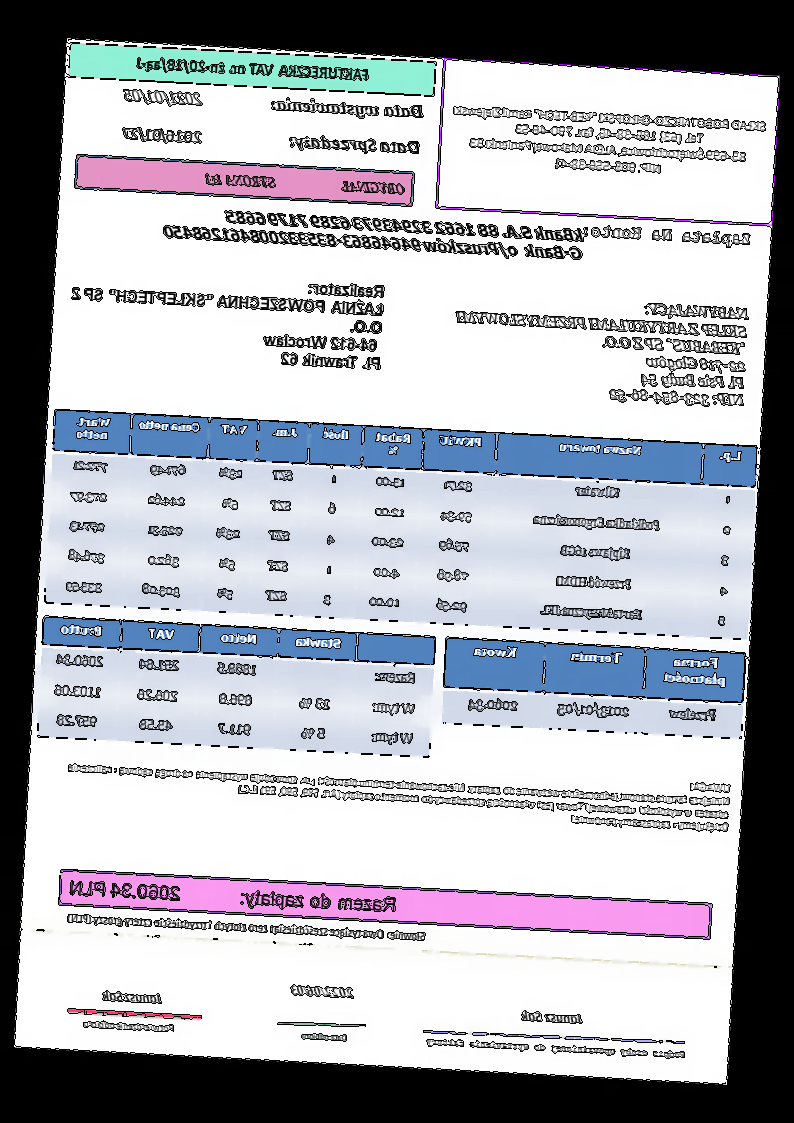Table: (43, 406, 760, 643), (34, 614, 437, 760), (442, 635, 747, 740)
TextBox: (64, 747, 732, 834), (448, 289, 751, 413), (63, 268, 388, 376), (446, 100, 769, 187), (160, 206, 585, 263), (68, 877, 398, 916), (63, 910, 428, 945), (134, 52, 373, 86), (425, 1037, 690, 1062), (201, 171, 407, 199), (271, 94, 426, 126), (581, 222, 753, 249), (287, 132, 425, 160), (121, 85, 205, 111), (121, 123, 204, 146), (519, 1006, 587, 1029), (80, 1019, 177, 1034), (288, 983, 357, 1001), (100, 989, 165, 1006), (298, 1030, 351, 1044)
